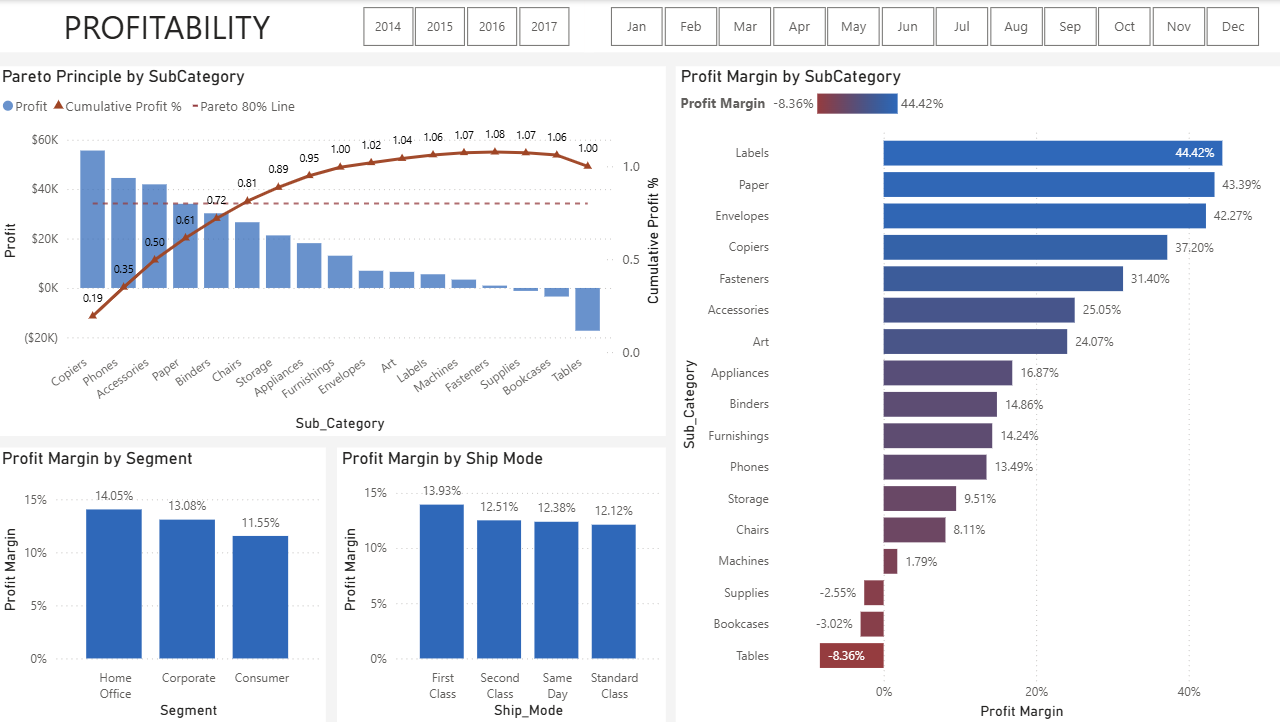

The dashboard page shown, as its layout file describes it:
{"tool":"powerbi","page":{"name":" PROFITABILITY","canvas":[1280,720],"ordinal":1},"visuals":[{"type":"textbox","box":[0,0,338.4,52.2],"z":0},{"type":"lineClusteredColumnComboChart","title":"Pareto Principle by SubCategory","fields":{"Category":["vw_CleanSuperstoreBI.Sub_Category"],"Y":["Measures (2).Profit"],"Y2":["Measures (2).Cumulative Profit %","Measures (2).Pareto 80% Line"]},"box":[0,65.9,665.5,368.2],"z":1000},{"type":"clusteredColumnChart","fields":{"Y":["Measures (2).Profit Margin"],"Category":["vw_CleanSuperstoreBI.Segment"]},"box":[0,445.3,327.2,274.9],"z":2000},{"type":"clusteredColumnChart","title":"Profit Margin by Ship Mode","fields":{"Y":["Measures (2).Profit Margin"],"Category":["vw_CleanSuperstoreBI.Ship_Mode"]},"box":[338.4,445.3,327.2,274.9],"z":3000},{"type":"clusteredBarChart","title":"Profit Margin by SubCategory","fields":{"Y":["Measures (2).Profit Margin"],"Category":["vw_CleanSuperstoreBI.Sub_Category"]},"box":[675.5,65.9,604.6,654.3],"z":4000},{"type":"slicer","fields":{"Values":["Date.Date Hierarchy.Year"]},"box":[338.4,0,255,52.2],"z":5000},{"type":"slicer","fields":{"Values":["Date.MonthName"]},"box":[584.6,0,695.4,52.2],"z":6000}]}

Visuals, with their boxes in screenshot pixels (x1, y1, x2, y2), scaled from the page's 1280x720 canvas onto the 1280x722 screenshot:
textbox: box=[0, 0, 338, 52]
"Pareto Principle by SubCategory" lineClusteredColumnComboChart: box=[0, 66, 666, 435]
clusteredColumnChart - Measures (2).Profit Margin x vw_CleanSuperstoreBI.Segment: box=[0, 447, 327, 721]
"Profit Margin by Ship Mode" clusteredColumnChart: box=[338, 447, 666, 721]
"Profit Margin by SubCategory" clusteredBarChart: box=[676, 66, 1279, 721]
slicer - Date.Date Hierarchy.Year: box=[338, 0, 593, 52]
slicer - Date.MonthName: box=[585, 0, 1279, 52]
